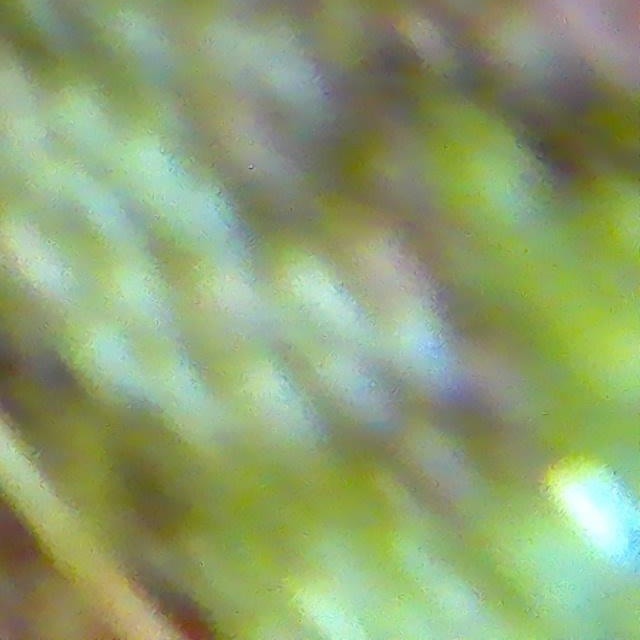SeaGrape: (412, 105, 552, 254), (206, 343, 326, 475), (87, 241, 181, 339), (379, 303, 470, 401), (35, 56, 124, 155), (88, 0, 186, 77), (0, 0, 69, 49)
